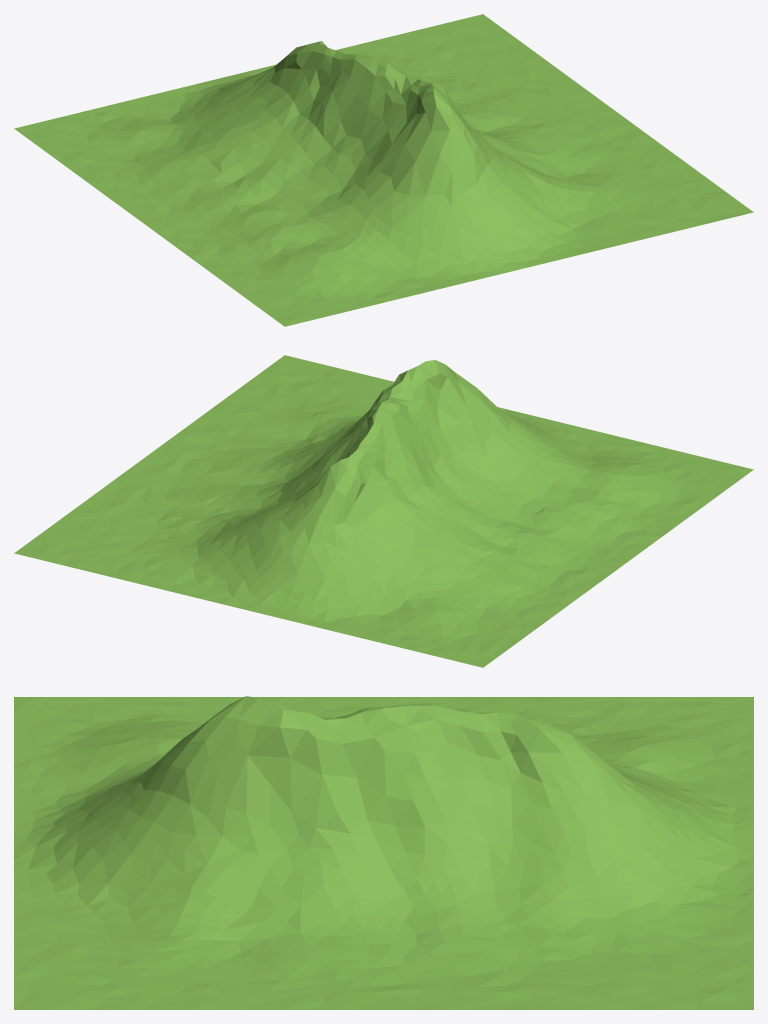
File: MT_Terrain_L_a_18.fbx
3 views of the same model, one above another, from view 1: azimuth 30°, elevation 25°; view 2: azimuth 150°, elevation 25°; view 3: azimuth 270°, elevation 25° (orthographic). The views are drawn at different scales.
Parts seen in each view (by area): view 1: MT_Terrain_L_a_18; view 2: MT_Terrain_L_a_18; view 3: MT_Terrain_L_a_18.
Part boxes in pixels (x1=…): MT_Terrain_L_a_18: x1=14, y1=14, x2=753, y2=326; MT_Terrain_L_a_18: x1=14, y1=355, x2=753, y2=667; MT_Terrain_L_a_18: x1=14, y1=696, x2=753, y2=1009.
Bounding box in the file's own units: 10000 × 2375 × 10000.
